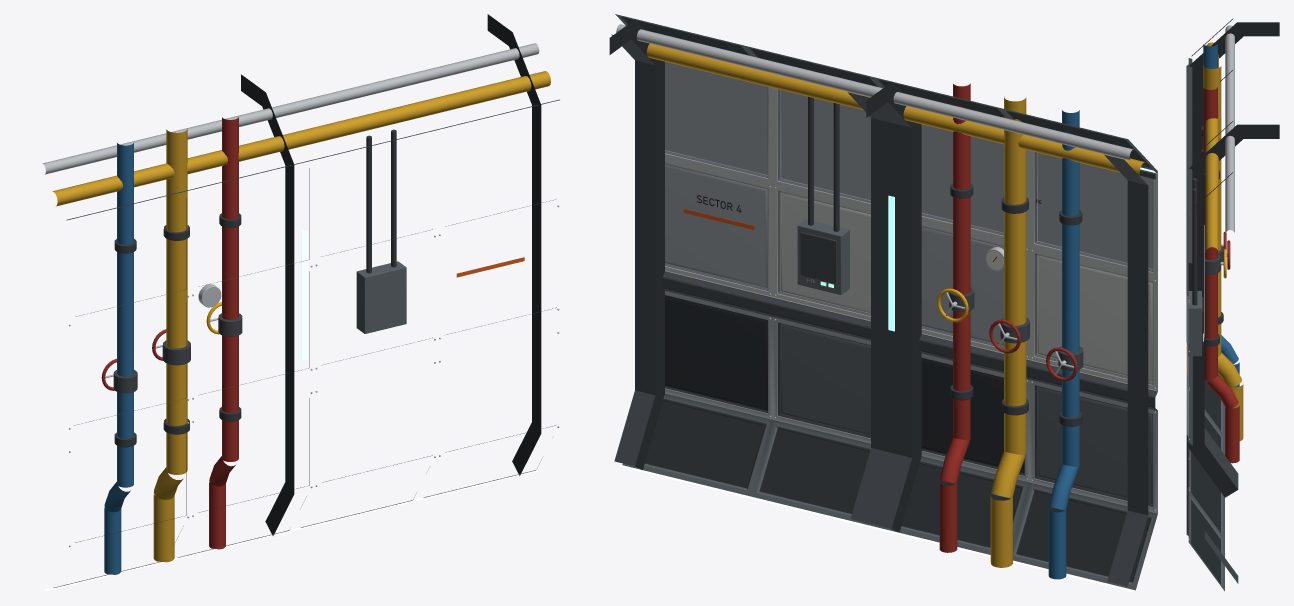
The model's file is room_wall_b.glb.
3 renders of one model, left to right at view 1: azimuth 30°, elevation 25°; view 2: azimuth 150°, elevation 25°; view 3: azimuth 270°, elevation 25°, orthographic. The views are drawn at different scales.
Visible parts, largest first — view 1: room_wall_b_pipes, room_wall_b_body, room_wall_b_detail, room_wall_b_decal; view 2: room_wall_b_body, room_wall_b_pipes, room_wall_b_detail, room_wall_b_decal; view 3: room_wall_b_body, room_wall_b_pipes, room_wall_b_detail, room_wall_b_decal.
Boxes of the visible parts, x1,y1,x2,y2 form: room_wall_b_pipes: [42, 43, 550, 574]; room_wall_b_body: [53, 14, 556, 587]; room_wall_b_detail: [66, 99, 559, 547]; room_wall_b_decal: [44, 230, 538, 591]; room_wall_b_body: [609, 14, 1157, 590]; room_wall_b_pipes: [616, 24, 1145, 579]; room_wall_b_detail: [769, 96, 1157, 511]; room_wall_b_decal: [620, 167, 1156, 591]; room_wall_b_body: [1186, 18, 1279, 591]; room_wall_b_pipes: [1203, 25, 1243, 463]; room_wall_b_detail: [1188, 58, 1230, 539]; room_wall_b_decal: [1187, 225, 1229, 591].
Bounding box in the file's own units: 4 × 3.4 × 0.77.
